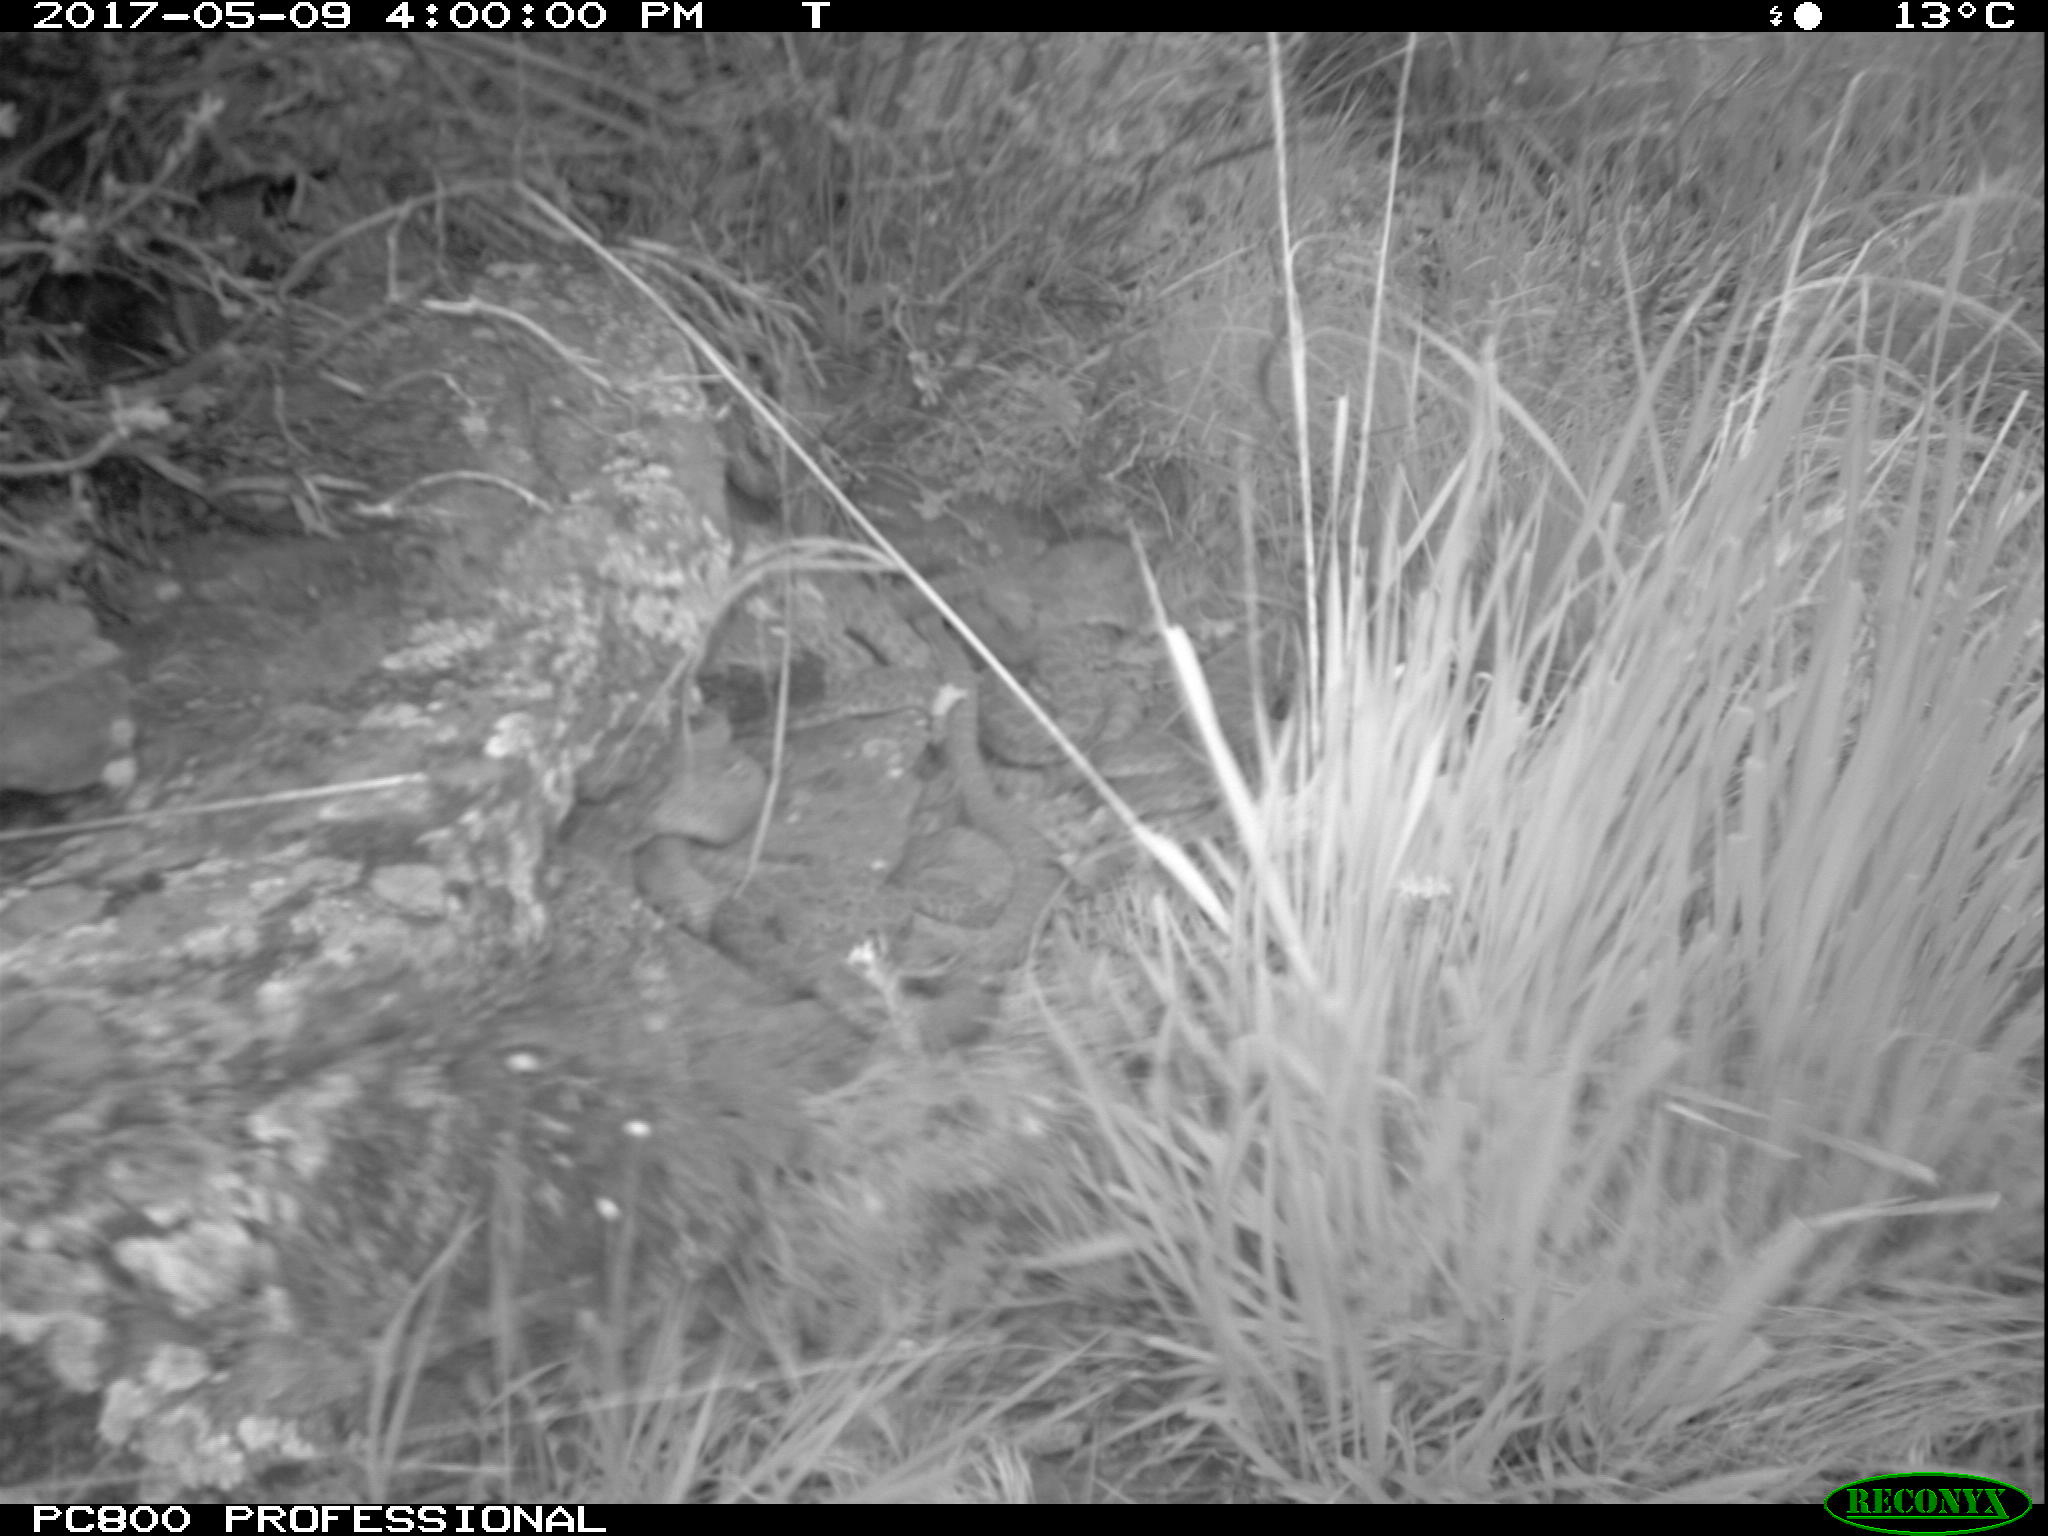snake: (906, 629, 1056, 918), (1027, 665, 1242, 833), (761, 895, 1019, 1023), (631, 758, 776, 929)
